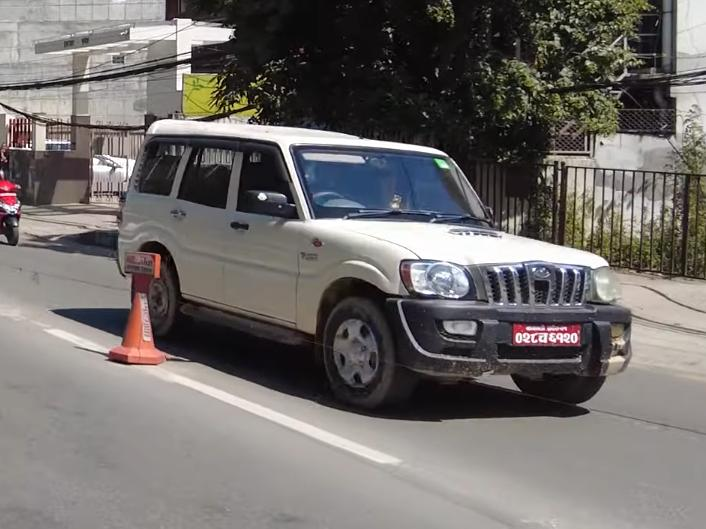SUV: (114, 112, 636, 410)
scooter: (0, 174, 28, 248)
